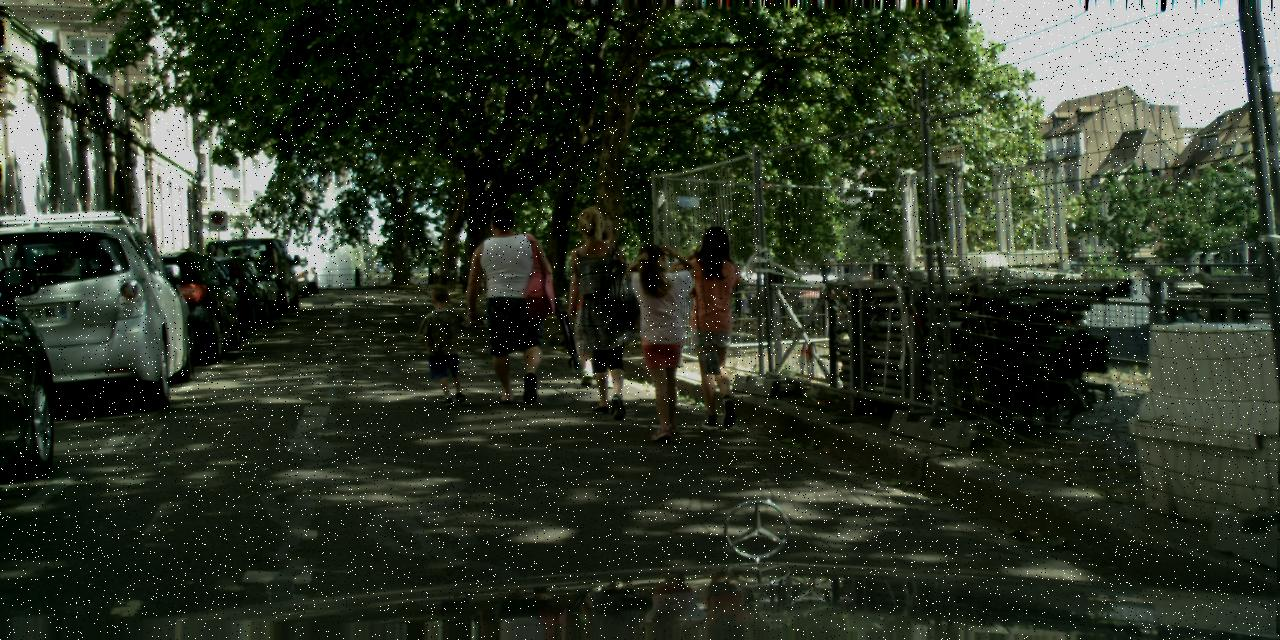ped: (556, 205, 642, 417), (681, 226, 763, 427), (618, 242, 699, 439), (470, 206, 549, 400), (568, 219, 636, 385), (422, 284, 472, 404)
